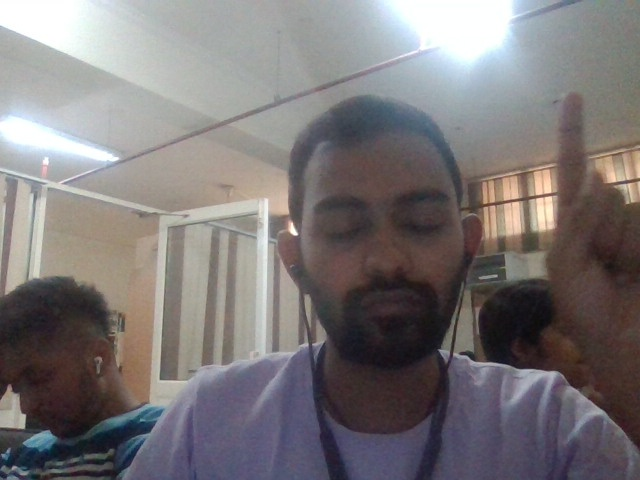Present: (546, 93, 640, 367)
